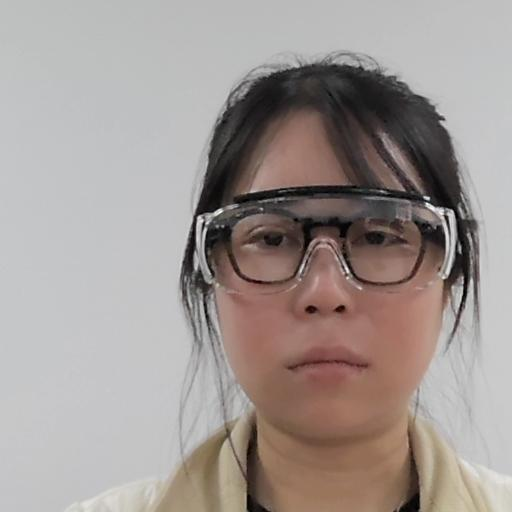glasses: (186, 65, 475, 448)
